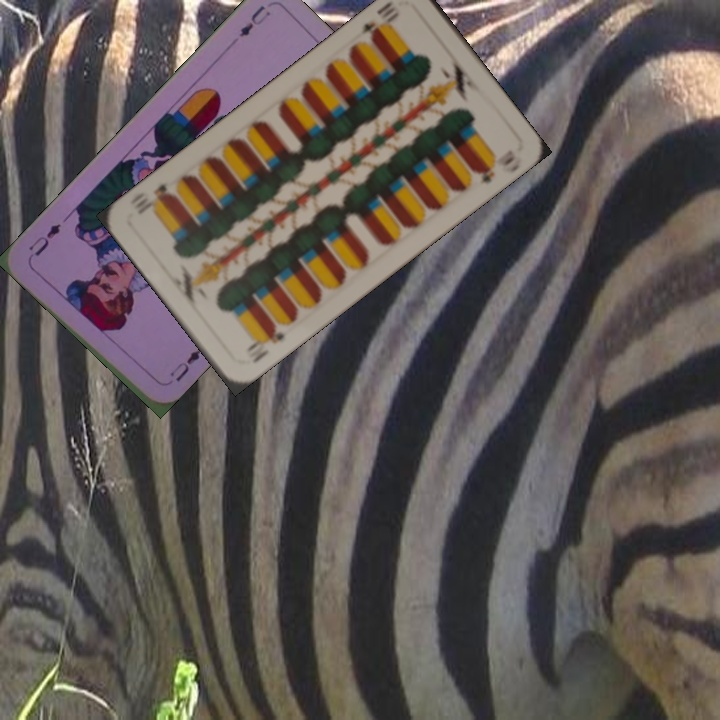E10: (242, 321, 288, 366), (357, 4, 402, 45)
EU: (160, 345, 204, 388), (235, 1, 274, 40)
